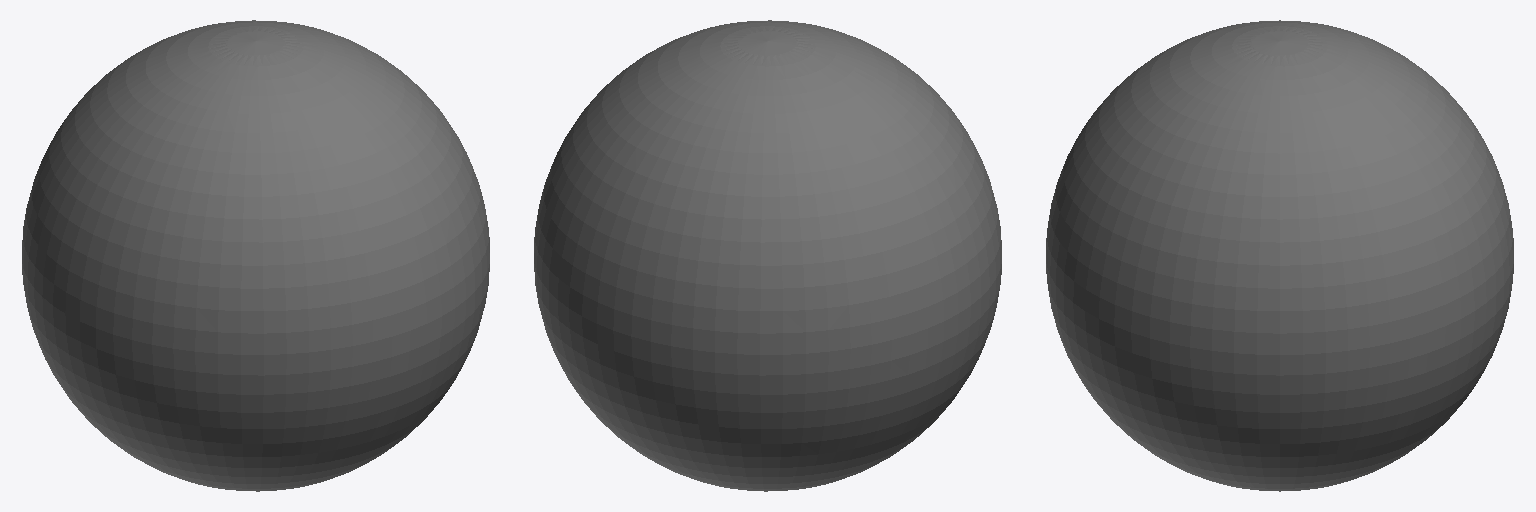
The robot description file, URDF, robot "white_ball":
<?xml version="1.0"?>
<robot name="white_ball">
  <link name="base">
    <visual>
      <geometry>
        <mesh filename="white_ball.obj" scale="1 1 1"/>
      </geometry>
      <material name="gray">
        <color rgba="0.5 0.5 0.5 1.0"/>
      </material>
    </visual>
    <collision>
      <geometry>
        <mesh filename="white_ball.obj" scale="1 1 1"/>
      </geometry>
    </collision>
    <inertial>
      <mass value="1.000"/>
      <inertia
          ixx="0.001040" ixy="0.000000" ixz="0.000000"
          iyy="0.001040" iyz="0.000000"
          izz="0.001029"/>
      <origin xyz="-0.290424 0.001314 0.833091" rpy="0 0 0"/>
    </inertial>
  </link>
</robot>

--- Facts derived from the render (not from the file) ---
3 views of the same robot in one strip: view 1: azimuth 30°, elevation 25°; view 2: azimuth 150°, elevation 25°; view 3: azimuth 270°, elevation 25° (orthographic).
Model white_ball with 1 links and 0 joints (none), rooted at base, posed every joint at zero.
Visible links, largest first — view 1: base; view 2: base; view 3: base.
Link boxes in pixels (<box>): base: <box>22,20,489,491</box>; base: <box>534,20,1001,491</box>; base: <box>1046,20,1513,491</box>.
Bounding box of the posed robot: 0.0786 × 0.0786 × 0.0794 m (x, y, z).
1 mesh visuals loaded from 1 distinct referenced files (1 OBJ).
